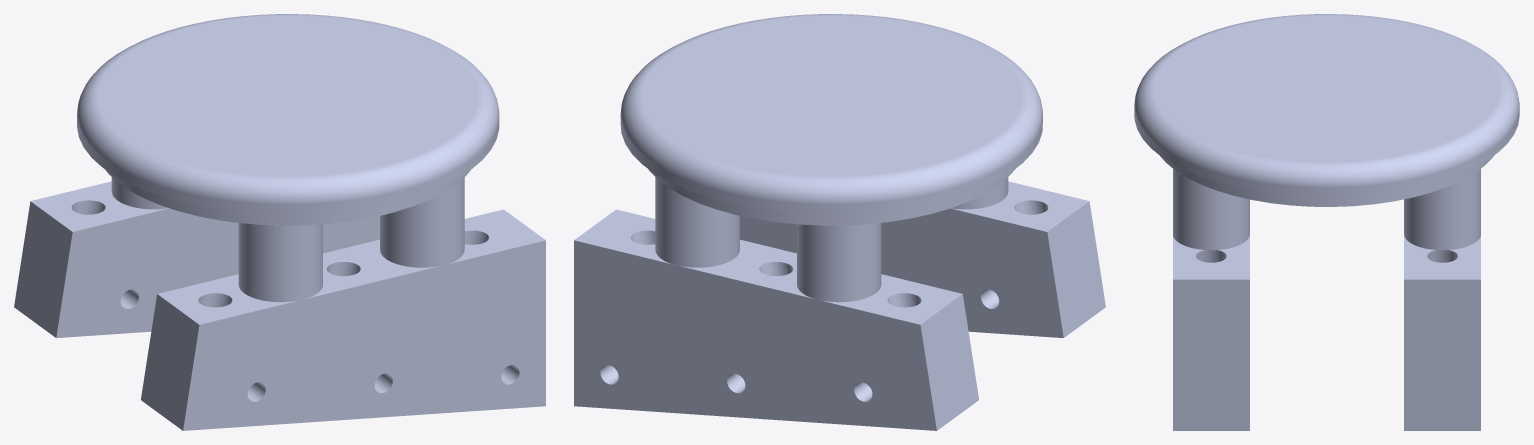
File: + Caster.dae
3 views of the same model, side by side, from view 1: azimuth 30°, elevation 25°; view 2: azimuth 150°, elevation 25°; view 3: azimuth 270°, elevation 25° (orthographic). The views are drawn at different scales.
Parts seen in each view (by area): view 1: Actor0; view 2: Actor0; view 3: Actor0.
Part boxes in pixels (x1,y1,x2,y2): Actor0: (14,14,545,430); Actor0: (574,14,1105,430); Actor0: (1134,14,1519,430).
Bounding box in the file's own units: 0.1293 × 0.0963 × 0.127.
